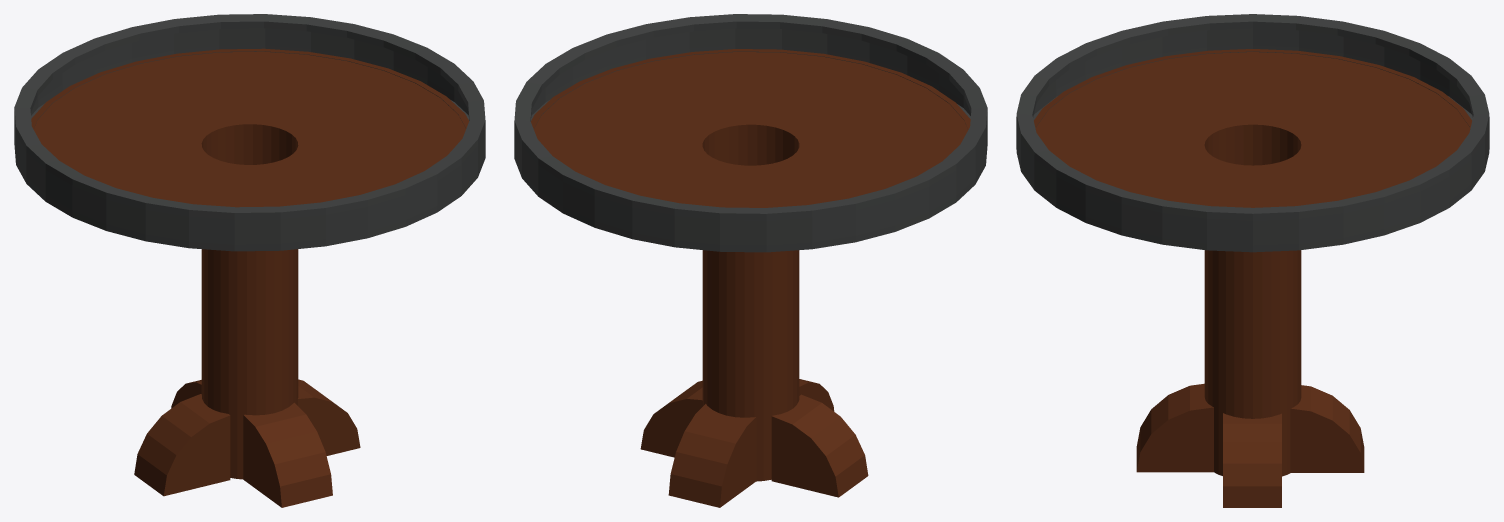
Rendered from mesa.fbx.
The picture shows the model from 3 angles, left to right: view 1: azimuth 30°, elevation 25°; view 2: azimuth 150°, elevation 25°; view 3: azimuth 270°, elevation 25°; orthographic projection.
Visible parts, largest first — view 1: Cube, Cube.001; view 2: Cube, Cube.001; view 3: Cube, Cube.001.
Boxes of the visible parts, left/top/right/bottom form: Cube: left=31, top=48, right=469, bottom=507; Cube.001: left=14, top=14, right=485, bottom=251; Cube: left=531, top=49, right=970, bottom=507; Cube.001: left=514, top=14, right=987, bottom=252; Cube: left=1034, top=49, right=1471, bottom=507; Cube.001: left=1016, top=14, right=1489, bottom=252.
Bounding box in the file's own units: 208 × 168 × 208.
